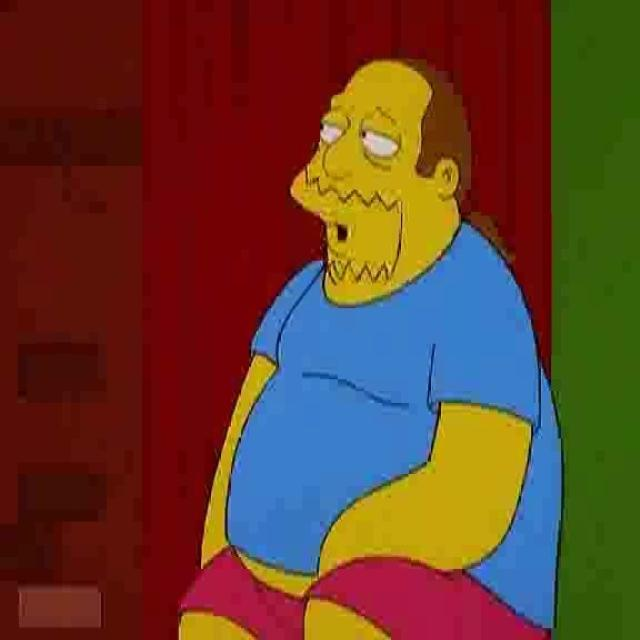Comic Book Guy: (284, 48, 489, 310)
